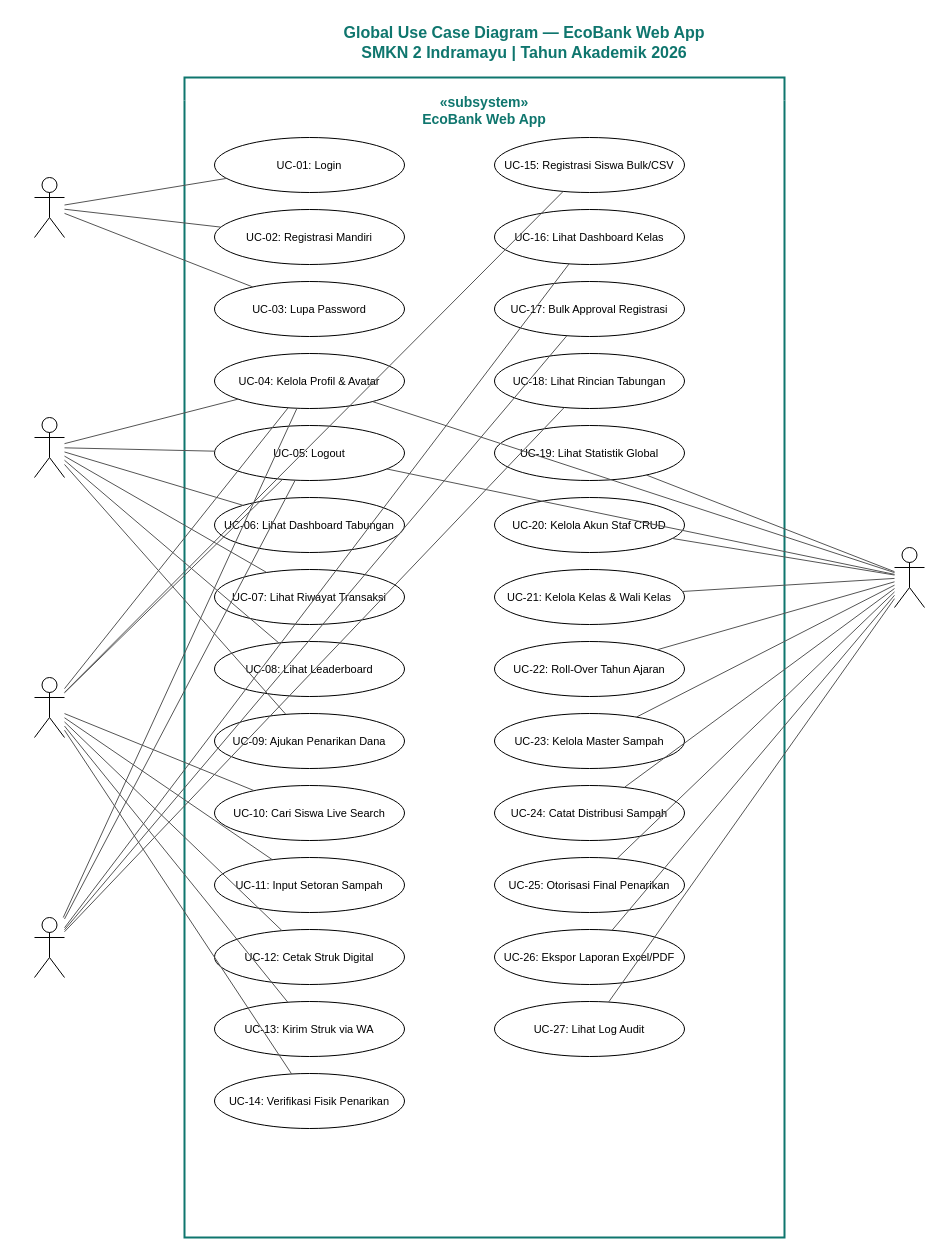
This 948x1255 diagram has some shape labels left out. The box of each missing label's shape, as (x1, y1, x2, y2) in pixels:
Manajer (Admin): (894, 546, 924, 608)
Operator (Staf): (34, 676, 64, 738)
Pengunjung (Guest): (34, 176, 64, 238)
Siswa (Nasabah): (34, 416, 64, 478)
Wali Kelas: (34, 916, 64, 978)
